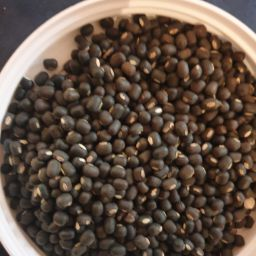Black Gram(urad daal): (17, 81, 256, 241), (62, 17, 211, 256), (102, 101, 184, 196)
